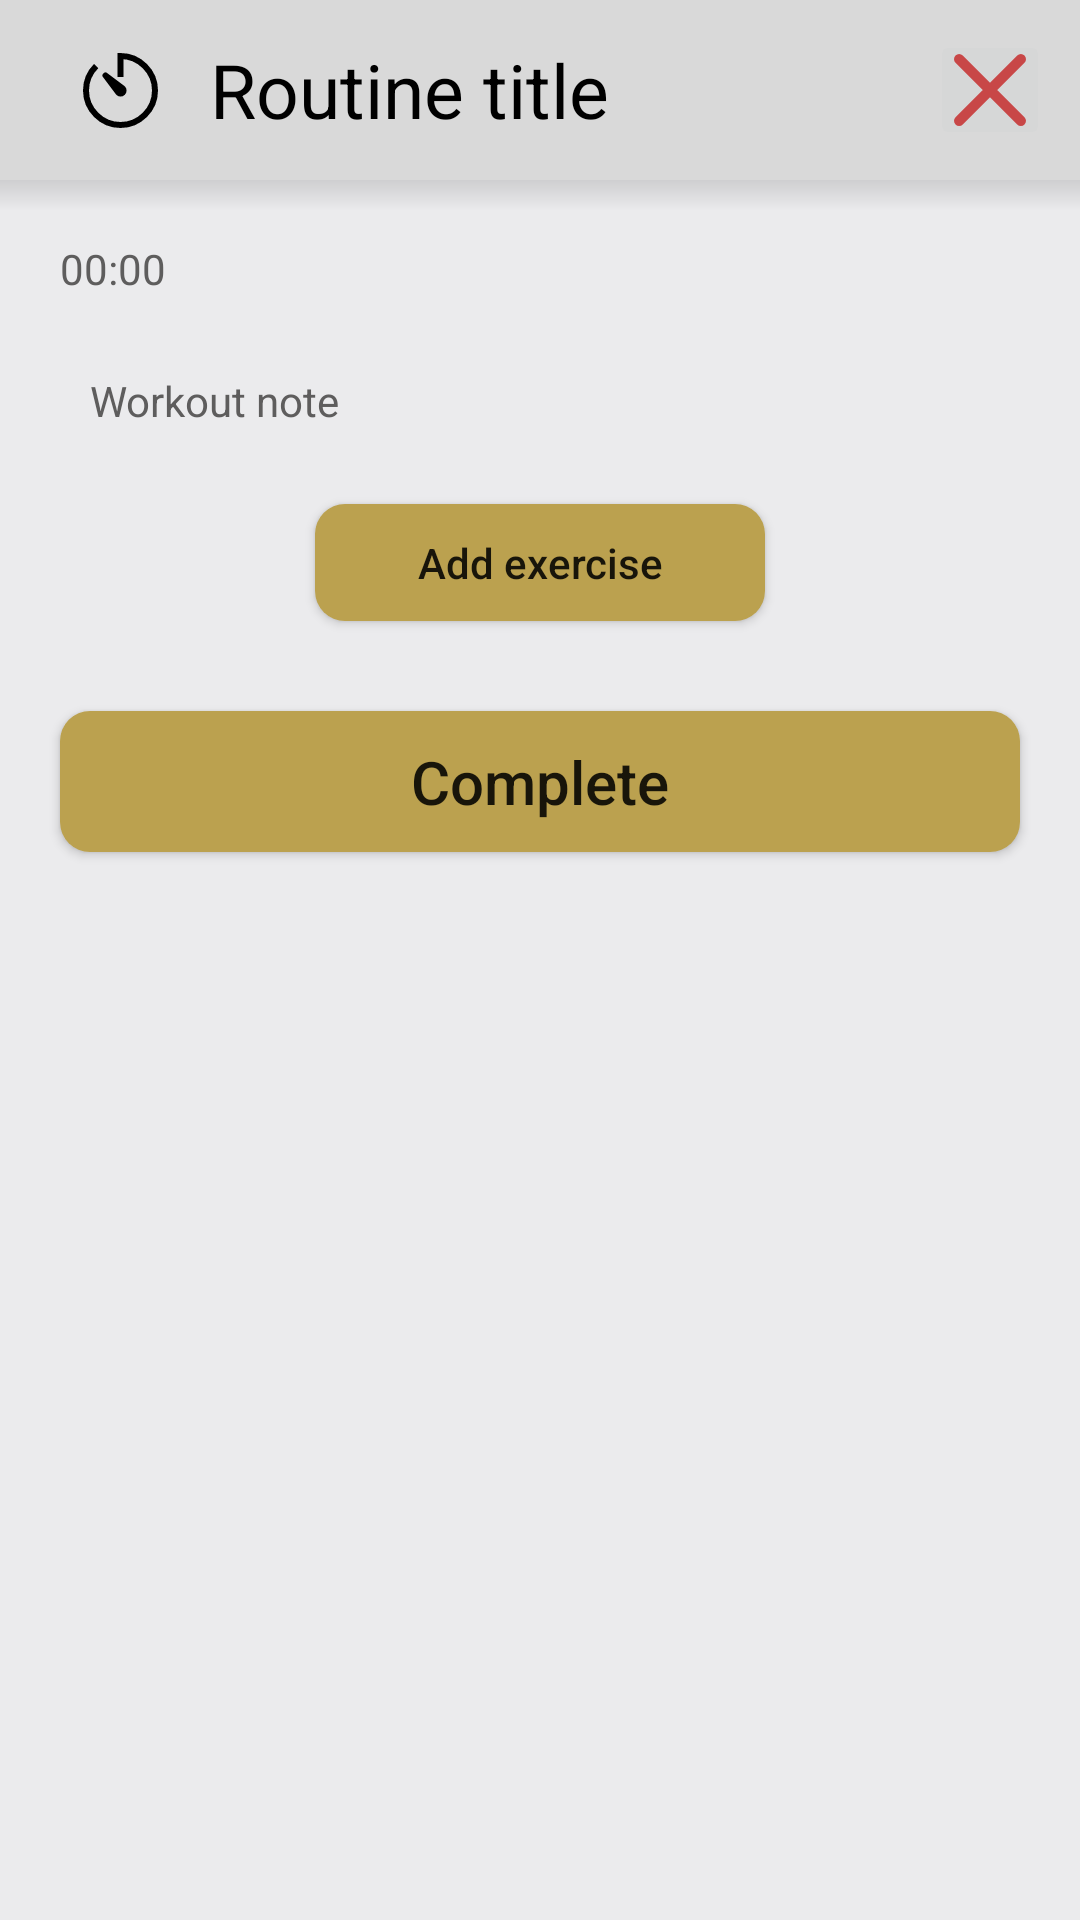

Icon click points for this 1080px x 1920px phone screenshot, format (x=x, y=y):
timer: (x=120, y=90)
